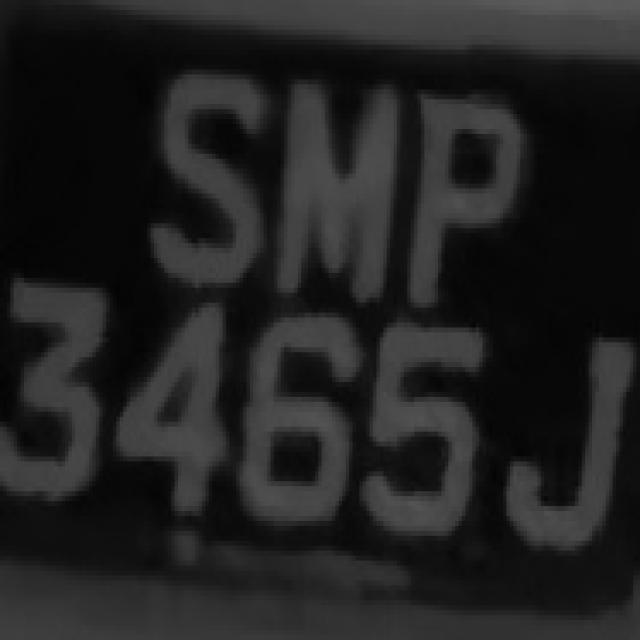3: (4, 248, 106, 526)
4: (103, 273, 243, 551)
5: (366, 308, 479, 560)
6: (229, 293, 356, 536)
J: (493, 298, 636, 570)
M: (267, 55, 397, 328)
P: (400, 70, 527, 332)
S: (147, 50, 264, 302)
